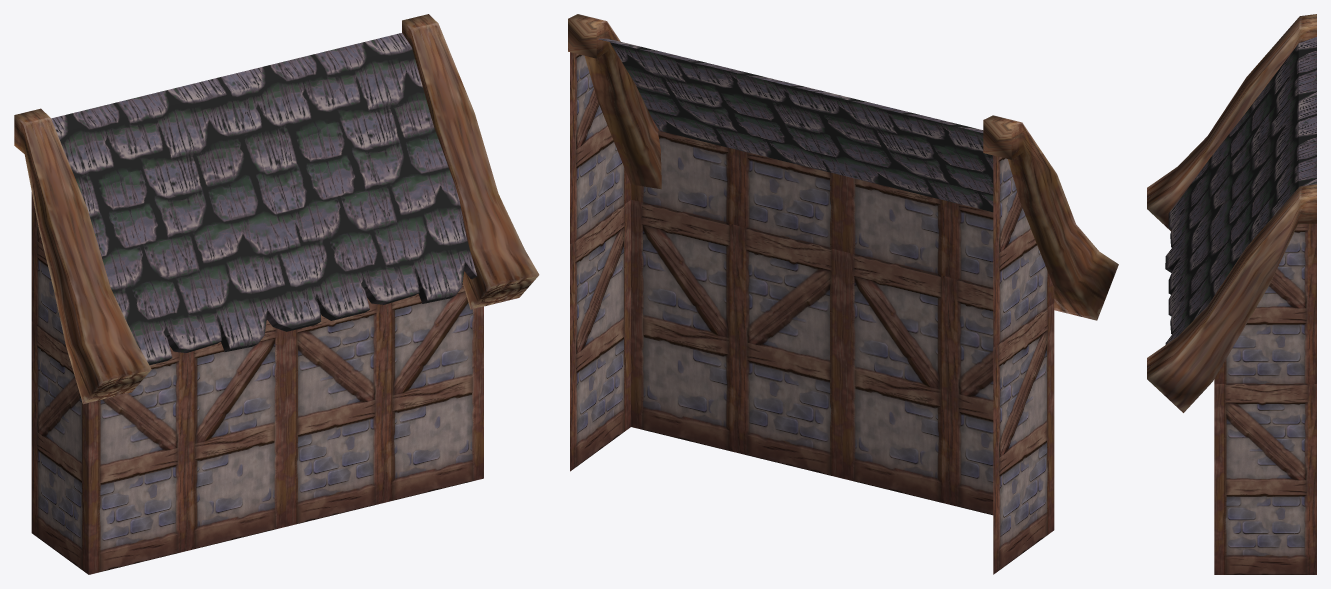
The model's file is wall_roof_median1x2.fbx.
The picture shows the model from 3 angles, left to right: view 1: azimuth 30°, elevation 25°; view 2: azimuth 150°, elevation 25°; view 3: azimuth 270°, elevation 25°; orthographic projection. The views are drawn at different scales.
Visible parts, largest first — view 1: wall_roof_median1x2; view 2: wall_roof_median1x2; view 3: wall_roof_median1x2.
Part boxes in pixels (x1,y1,x2,y2): wall_roof_median1x2: (14,14,539,574); wall_roof_median1x2: (568,14,1118,574); wall_roof_median1x2: (1147,14,1316,574).
Size of the model in its own units: 331 by 306 by 124.
